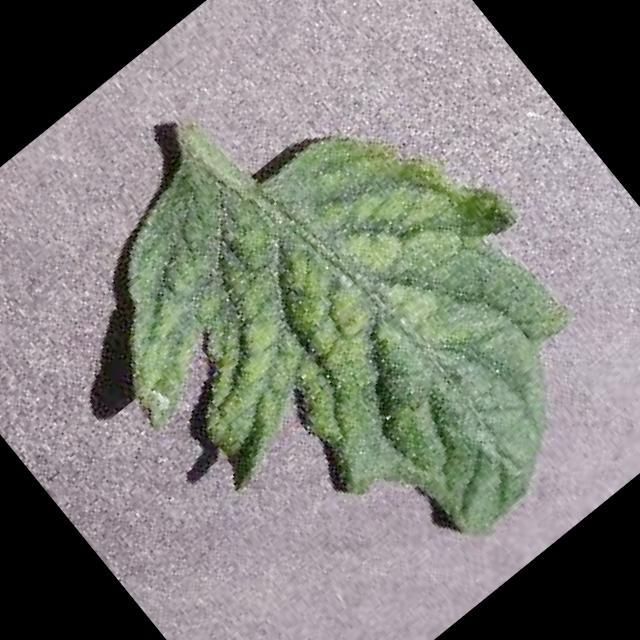Tomato mosaic virus leaf: (34, 18, 640, 640)
